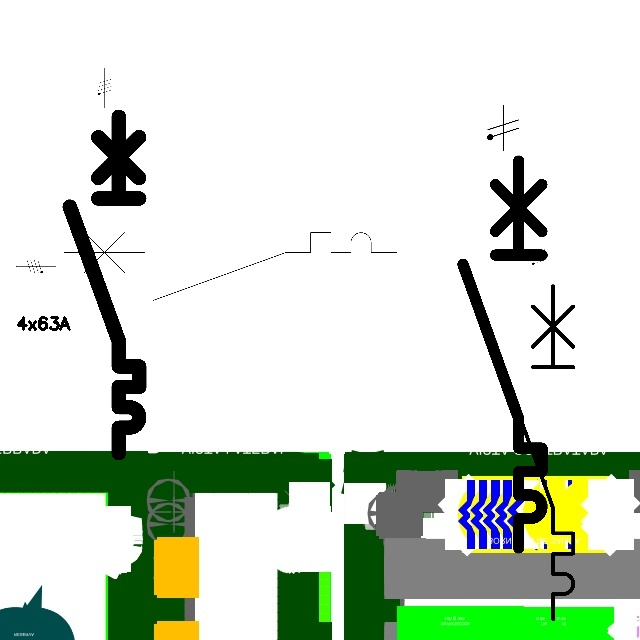interruptor_termomagnetico: (453, 151, 552, 558), (61, 108, 148, 462), (496, 277, 582, 627), (55, 224, 405, 309)
